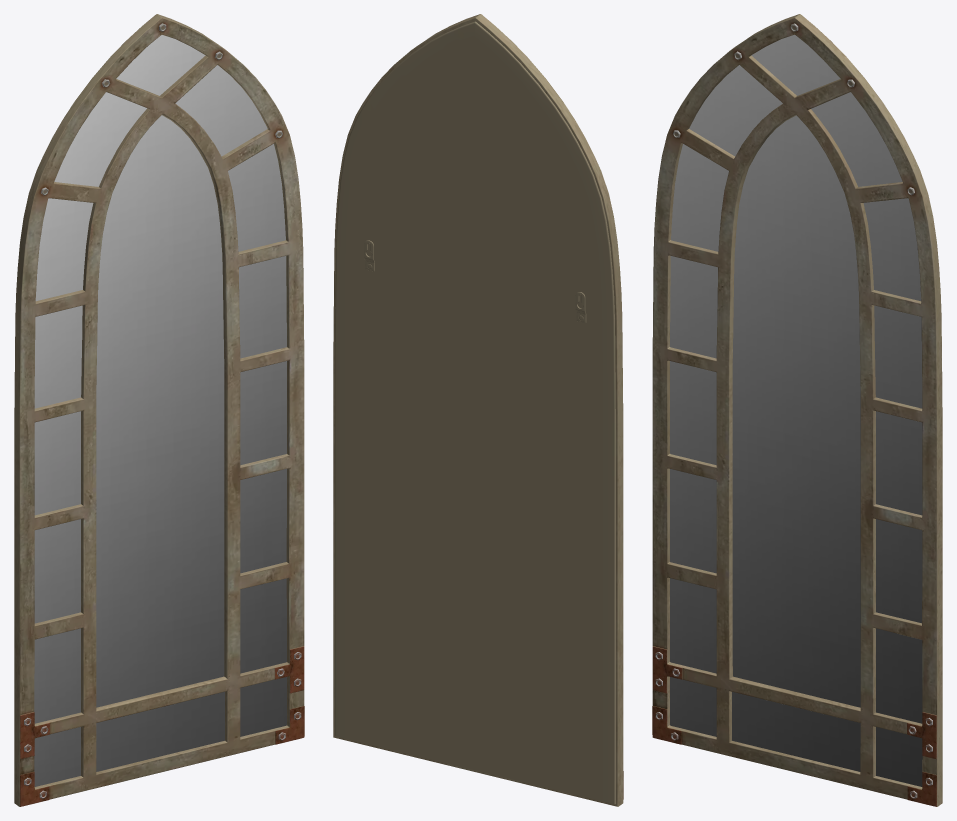
File: abo-B073WGSN2Q.glb
The picture shows the model from 3 angles, left to right: view 1: azimuth 30°, elevation 25°; view 2: azimuth 150°, elevation 25°; view 3: azimuth 330°, elevation 25°; orthographic projection.
Size of the model in its own units: 0.464 by 1.17 by 0.025.
1 material, 1 textured.
